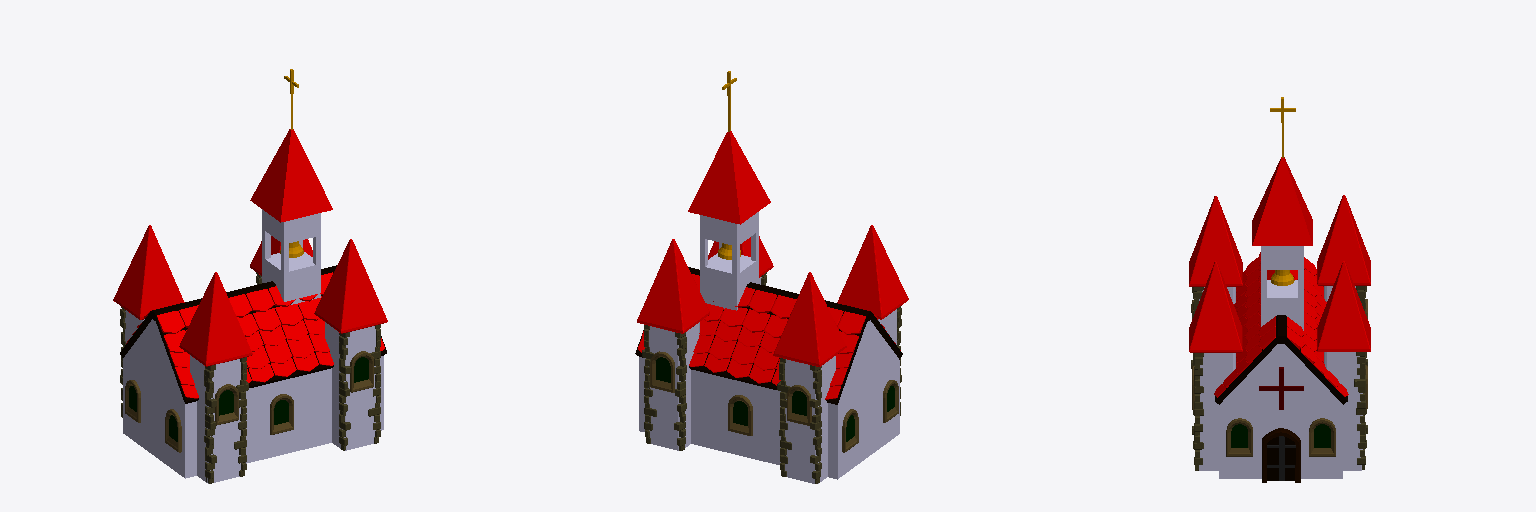
The model's file is Church_RedTeam.obj.
3 renders of one model, left to right at view 1: azimuth 30°, elevation 25°; view 2: azimuth 150°, elevation 25°; view 3: azimuth 270°, elevation 25°, orthographic.
Parts seen in each view (by area): view 1: Church_RedTeam_Cube.002; view 2: Church_RedTeam_Cube.002; view 3: Church_RedTeam_Cube.002.
Boxes of the visible parts, <box> form: Church_RedTeam_Cube.002: <box>113,69,387,483</box>; Church_RedTeam_Cube.002: <box>635,71,908,483</box>; Church_RedTeam_Cube.002: <box>1189,97,1370,482</box>.
Bounding box in the file's own units: 33.49 × 54.07 × 25.31.